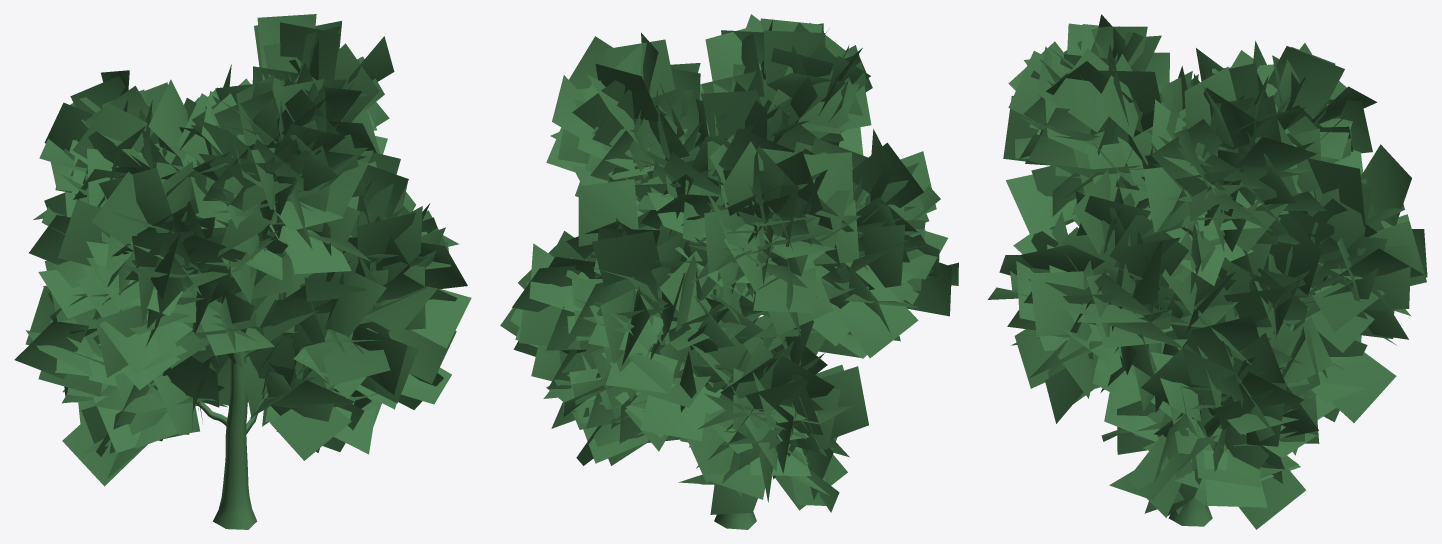
The model's file is Tree_13.fbx.
3 renders of one model, left to right at view 1: azimuth 30°, elevation 25°; view 2: azimuth 150°, elevation 25°; view 3: azimuth 270°, elevation 25°, orthographic. The views are drawn at different scales.
Visible parts, largest first — view 1: Tree_13_1; view 2: Tree_13_1; view 3: Tree_13_1.
Part boxes in pixels (x1,y1,x2,y2): Tree_13_1: [14, 14, 471, 529]; Tree_13_1: [500, 14, 958, 529]; Tree_13_1: [988, 14, 1427, 529].
Size of the model in its own units: 312 by 368 by 302.
